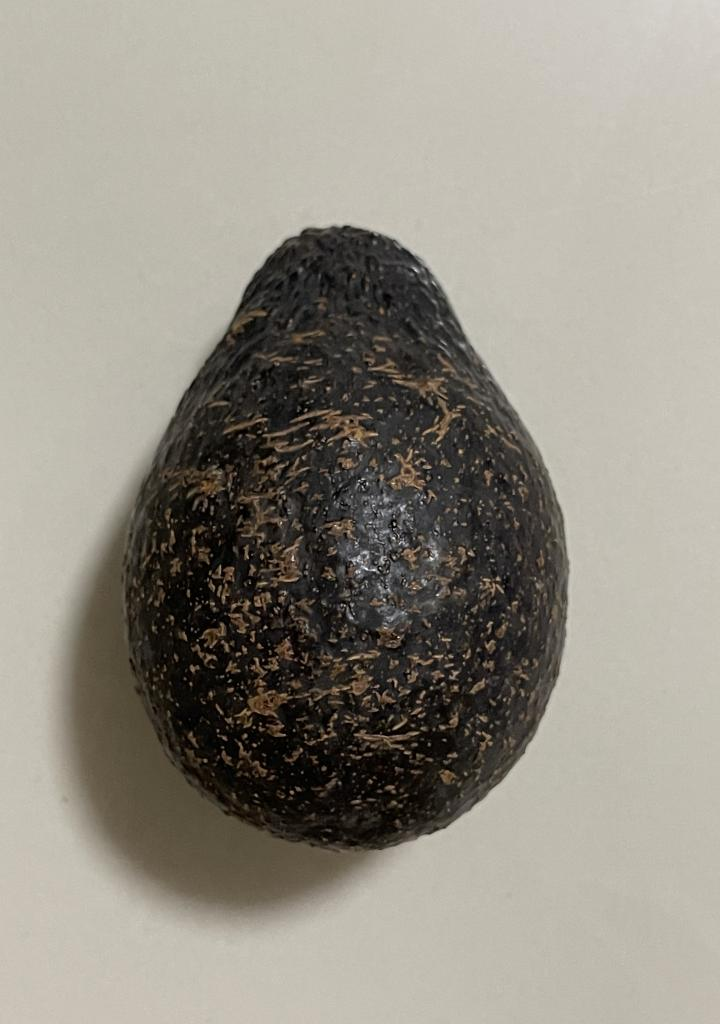Level3: (112, 208, 580, 862)
